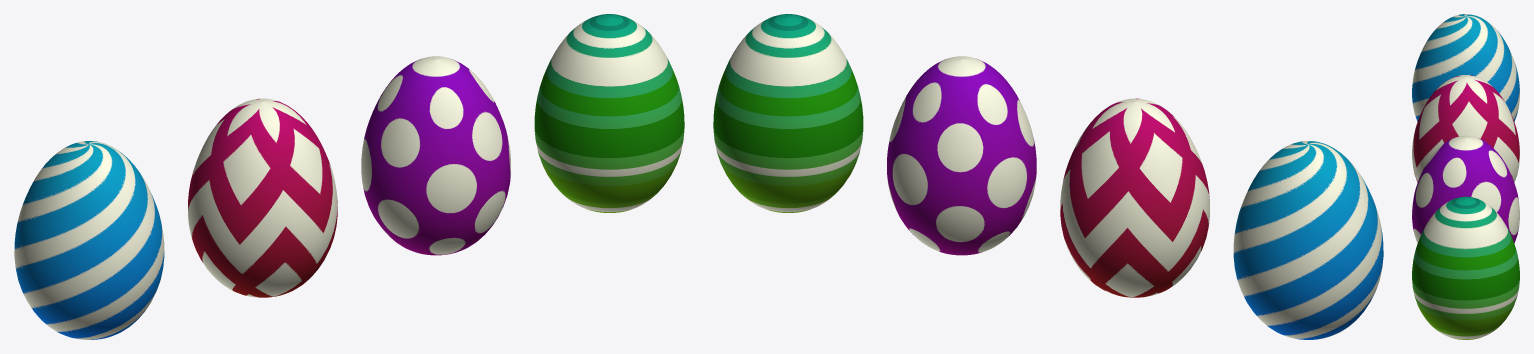
Rendered from asset.gltf.
3 views of the same model, side by side, from view 1: azimuth 30°, elevation 25°; view 2: azimuth 150°, elevation 25°; view 3: azimuth 270°, elevation 25° (orthographic). The views are drawn at different scales.
Parts seen in each view (by area): view 1: Object_2, Object_3, Object_4, Object_5; view 2: Object_2, Object_3, Object_4, Object_5; view 3: Object_2, Object_4, Object_5, Object_3.
Boxes of the visible parts, x1,y1,x2,y2 form: Object_2: (534, 14, 684, 212); Object_3: (361, 56, 510, 255); Object_4: (188, 98, 337, 297); Object_5: (14, 141, 164, 339); Object_2: (713, 14, 863, 212); Object_3: (887, 56, 1036, 255); Object_4: (1060, 98, 1209, 297); Object_5: (1233, 141, 1383, 339); Object_2: (1412, 196, 1519, 339); Object_4: (1412, 75, 1519, 182); Object_5: (1412, 14, 1519, 121); Object_3: (1412, 135, 1519, 243).
Size of the model in its own units: 11.25 by 3.12 by 2.25.
4 materials, 4 textured.
